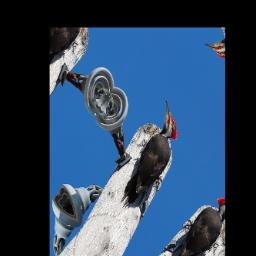Woodpecker: (106, 95, 196, 226)
